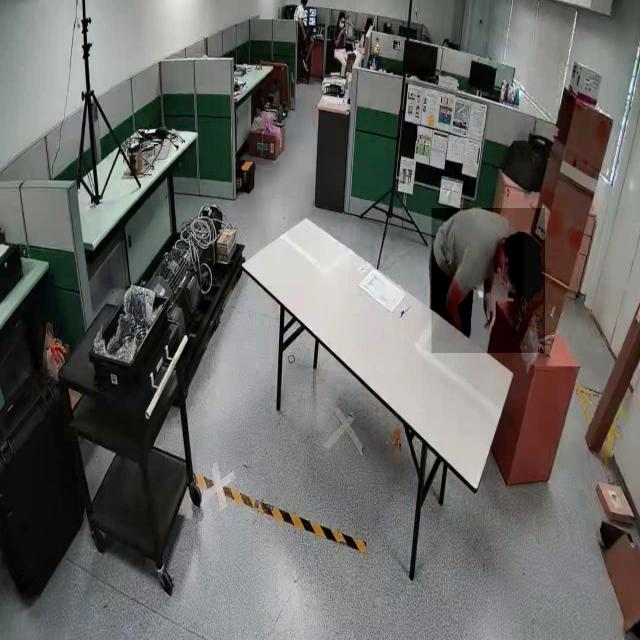head_nohelmet: (523, 230, 543, 302), (366, 17, 374, 24), (339, 11, 346, 17)
person: (431, 208, 545, 354)
